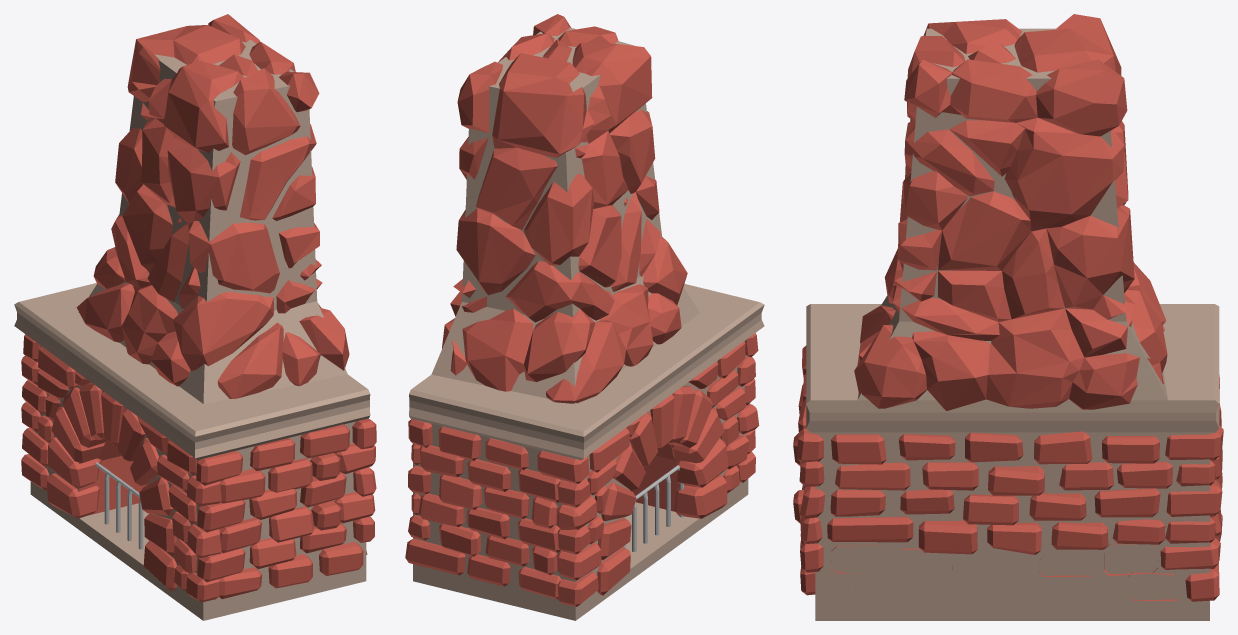
The model's file is firePlace2.glb.
3 views of the same model, side by side, from view 1: azimuth 30°, elevation 25°; view 2: azimuth 150°, elevation 25°; view 3: azimuth 270°, elevation 25° (orthographic). The views are drawn at different scales.
Parts seen in each view (by area): view 1: 벽난로본.001; view 2: 벽난로본.001; view 3: 벽난로본.001.
Boxes of the visible parts, box(x1,y1,x2,y2) form: 벽난로본.001: box(14, 14, 376, 620); 벽난로본.001: box(405, 14, 764, 620); 벽난로본.001: box(793, 14, 1223, 620).
Size of the model in its own units: 1.27 by 3.07 by 2.18.
